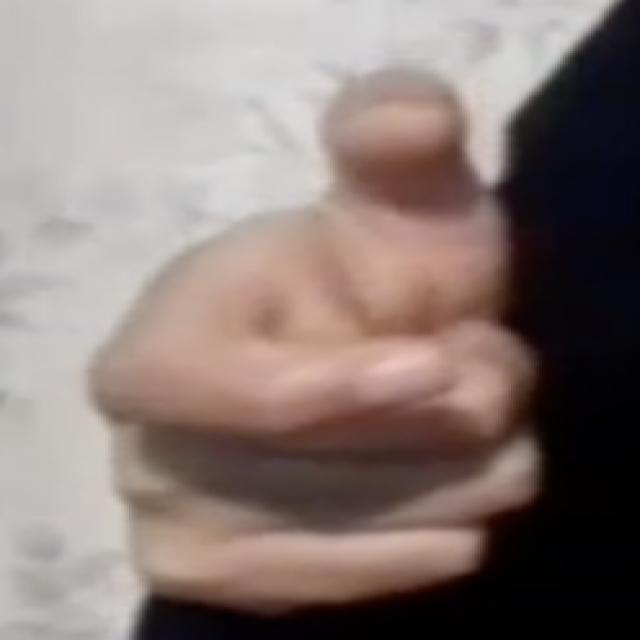Q: (80, 59, 560, 621)
